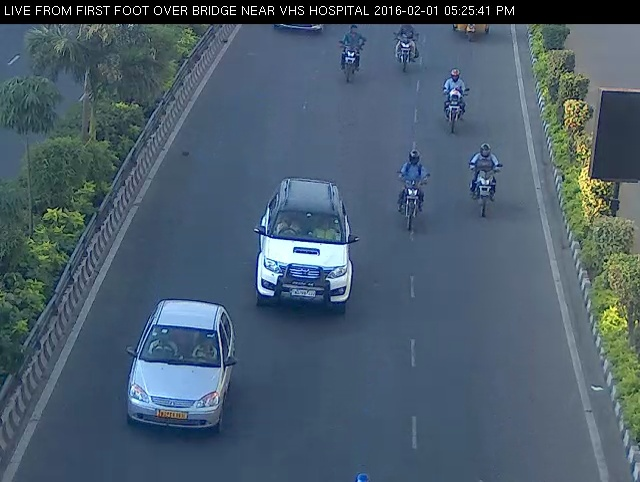Auto: (445, 11, 494, 48)
Car: (111, 294, 254, 442), (244, 173, 367, 322), (267, 14, 328, 44)
Person: (459, 137, 512, 224), (391, 132, 434, 234), (435, 64, 471, 136), (387, 17, 426, 79), (334, 20, 364, 90)
